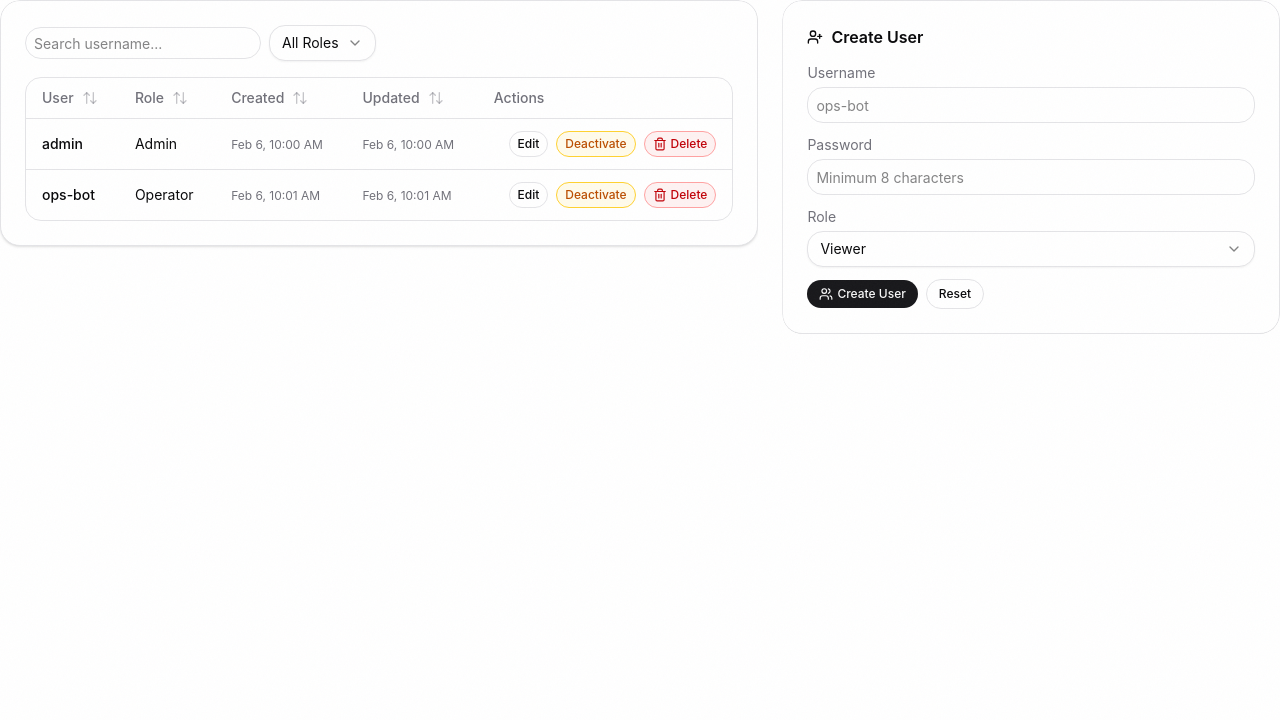
Test: UsersPanel › shows fallback error message when deactivateUser throws non-Error
Check: the row that starts with "admin" is shown, box [26,118,732,169]
Click the 1st button "Deactivate" at (596, 144), box [556,130,636,156]
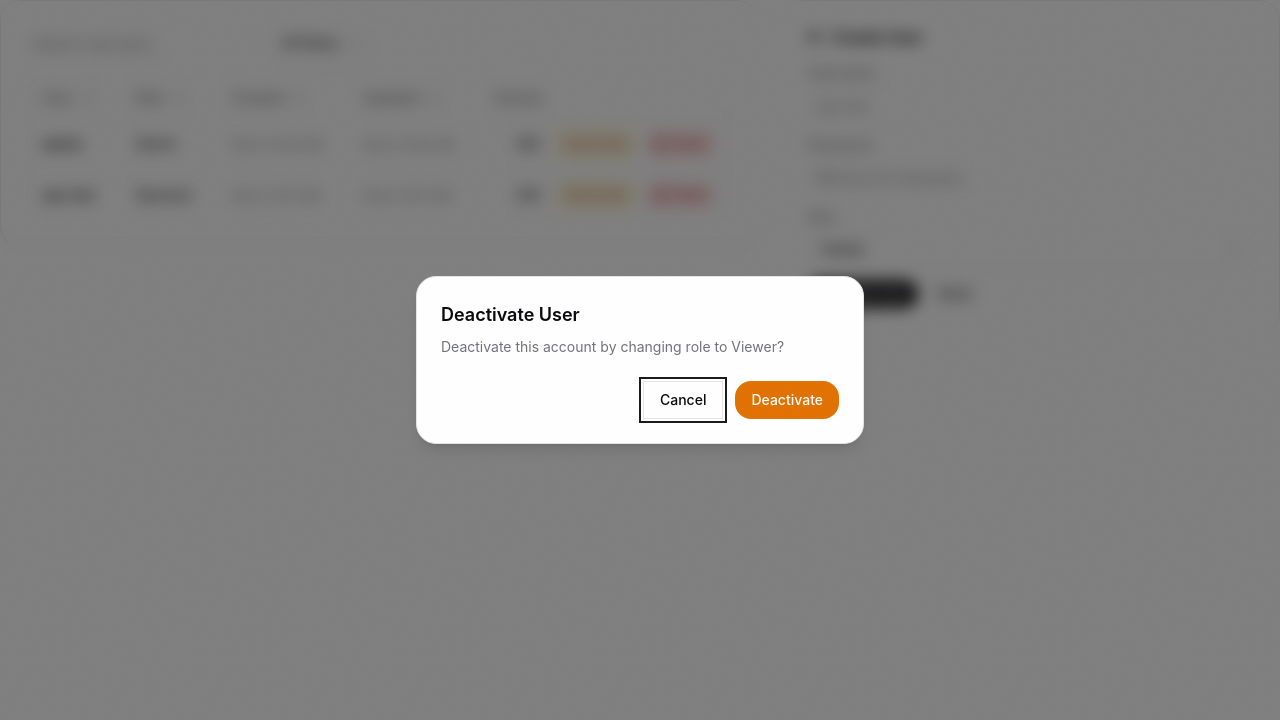
Click the button "Deactivate" at (787, 400), box [736,381,839,419]
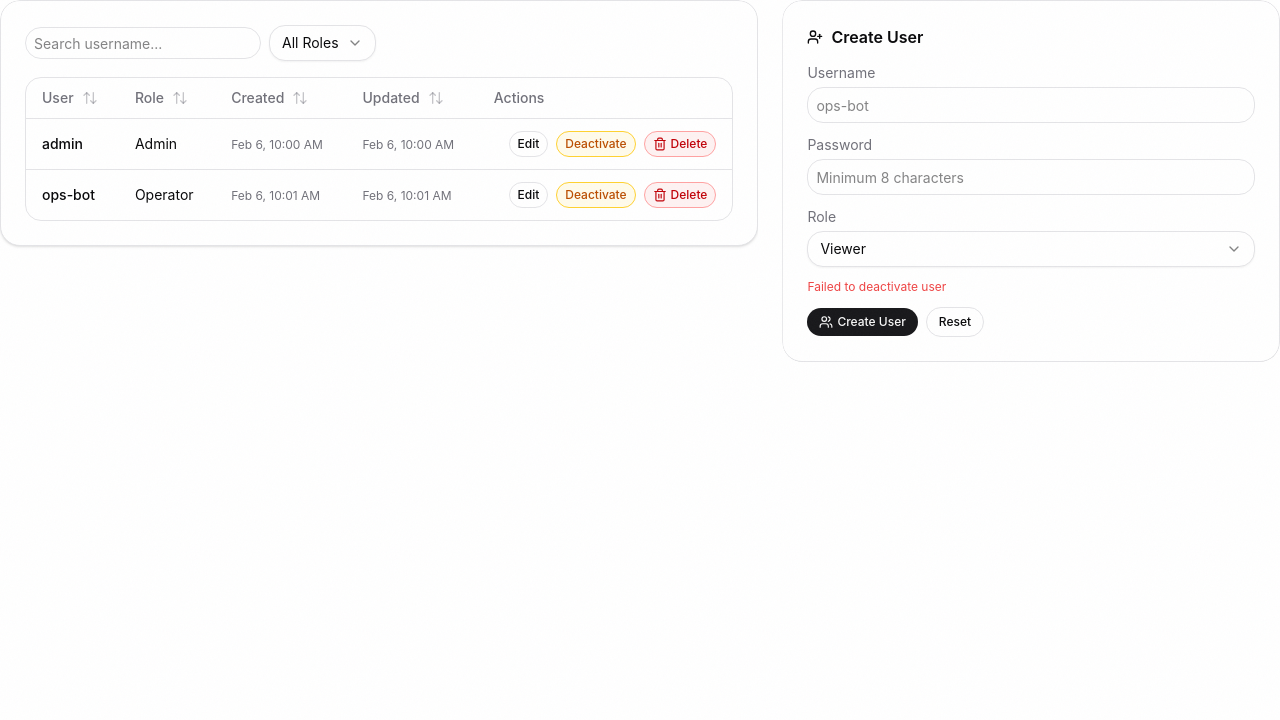
Check: the text "Failed to deactivate user" is shown, box [807,279,946,294]
